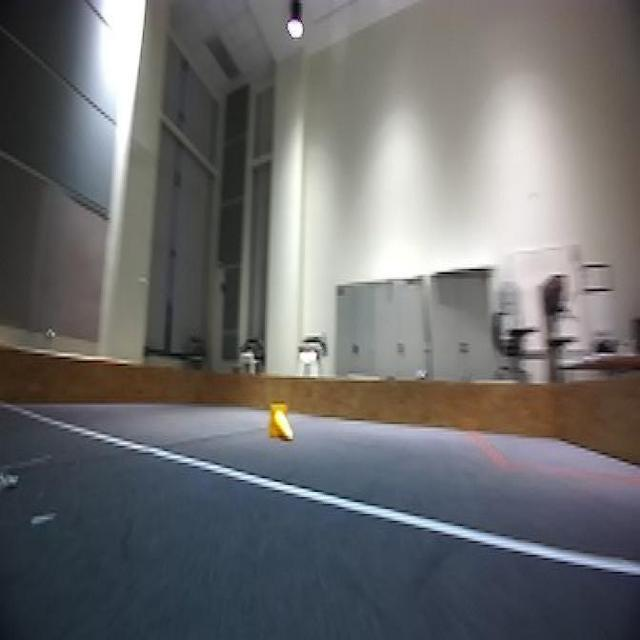frc_cone: (268, 402, 292, 439)
